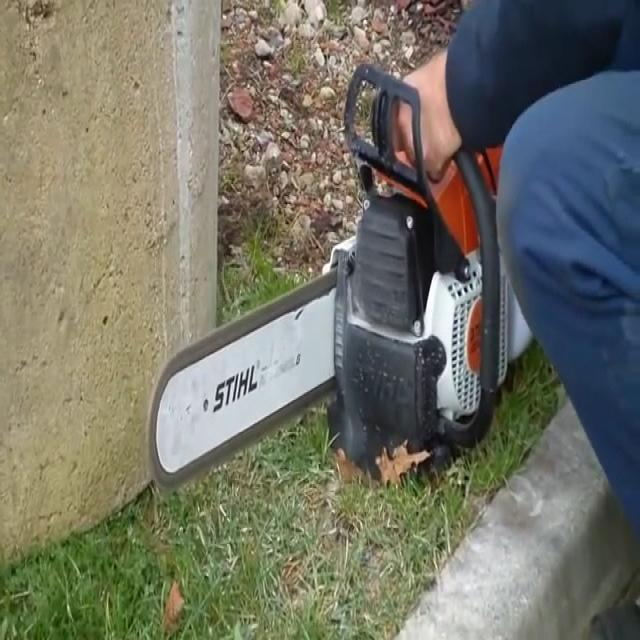Chainsaw: (142, 34, 568, 530)
